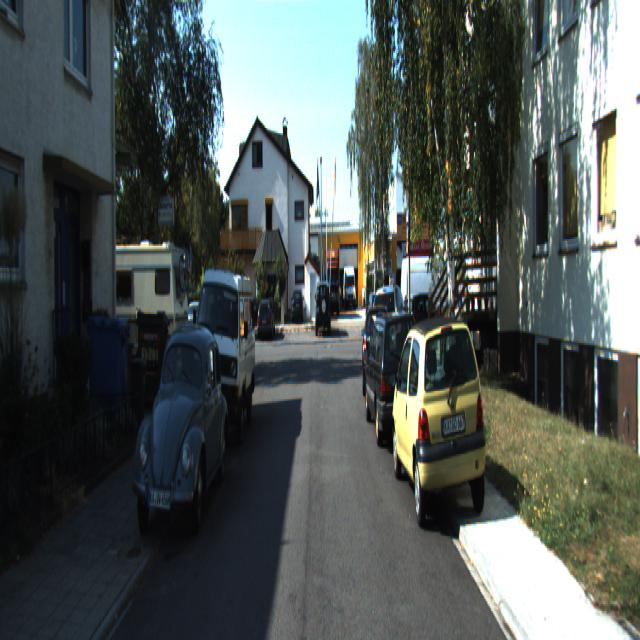Car: (125, 319, 233, 541), (389, 311, 489, 529), (75, 245, 196, 388), (188, 255, 256, 445), (362, 305, 430, 449), (399, 249, 467, 335), (370, 278, 410, 367), (362, 301, 394, 392), (635, 296, 639, 557), (316, 281, 332, 337)
